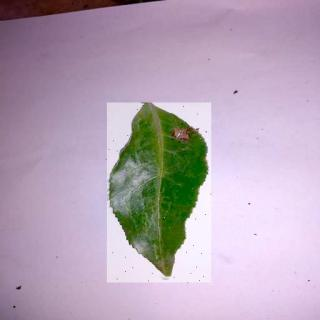Anthracnose: (108, 104, 212, 285)
